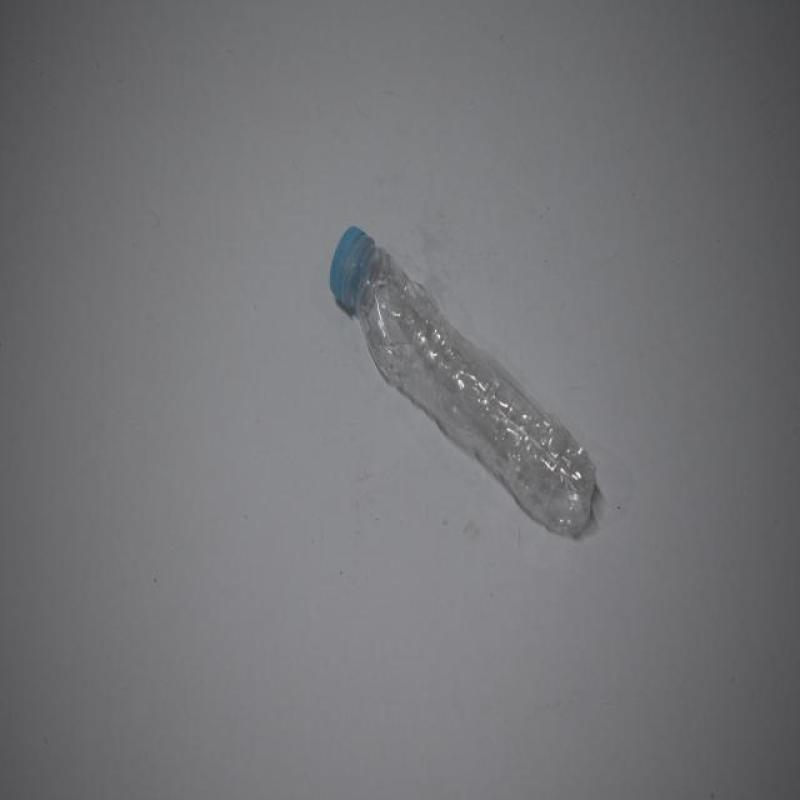botella: (328, 226, 593, 539)
